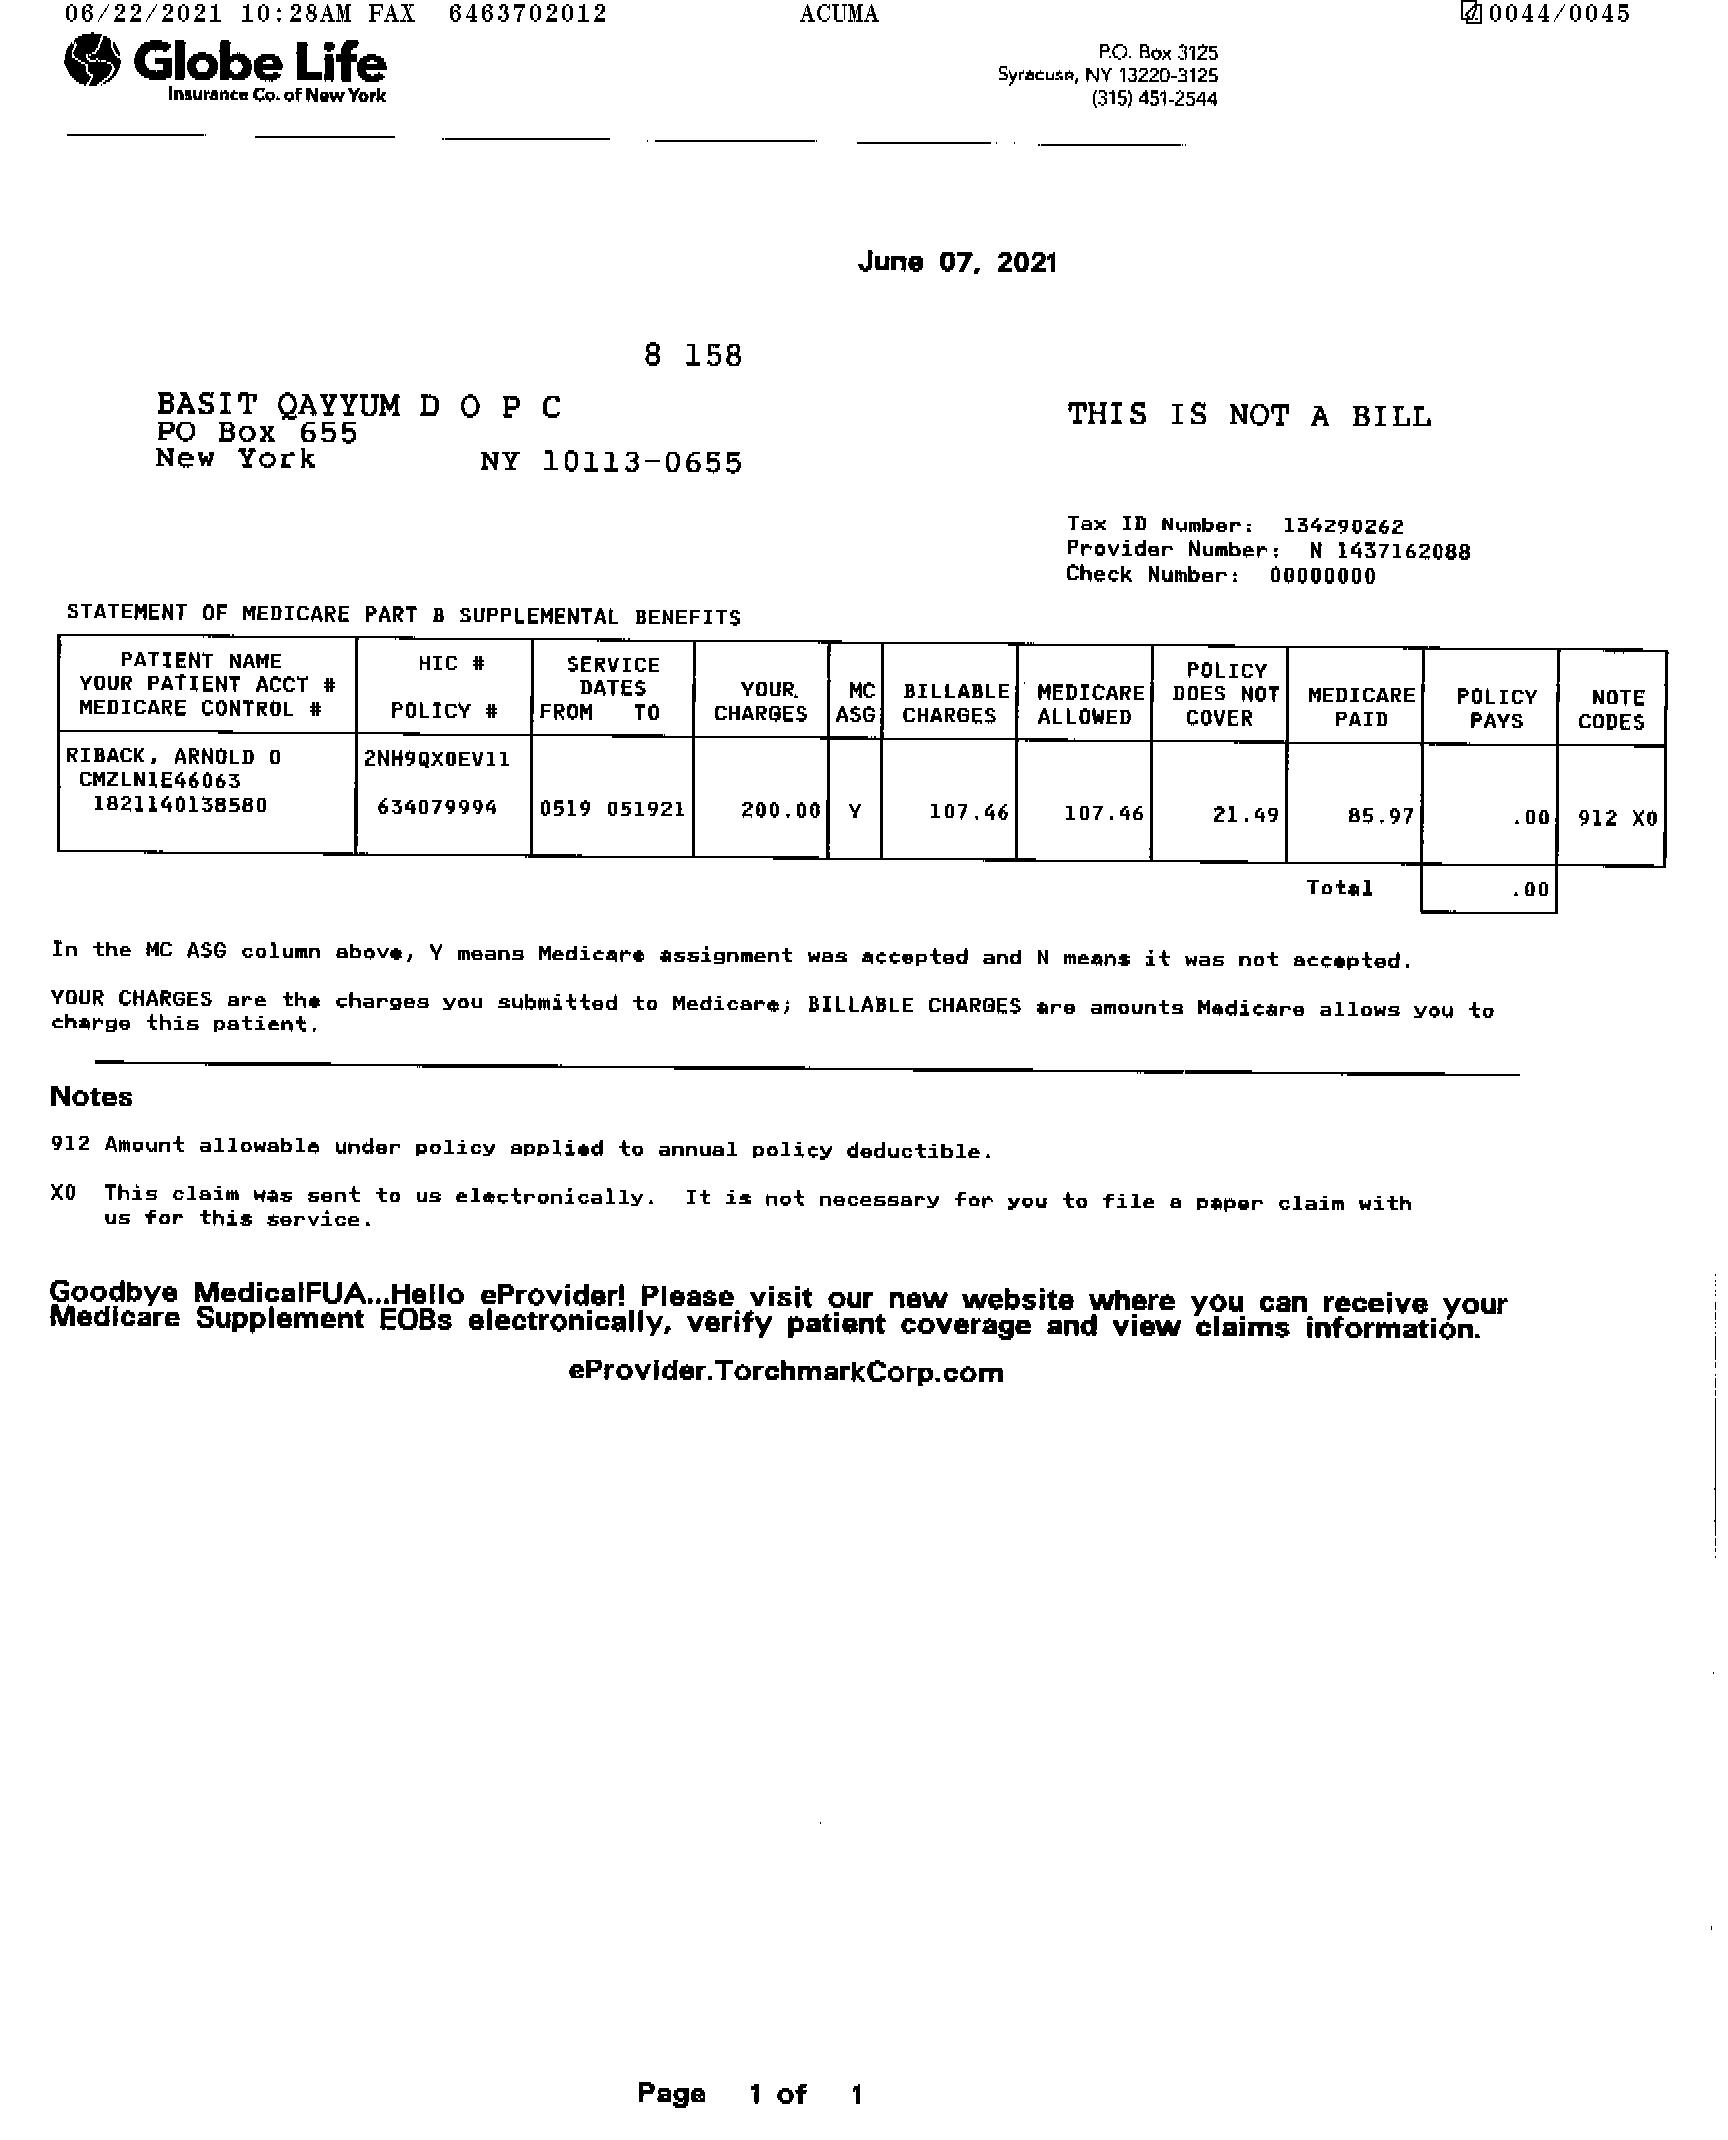table: (46, 619, 1680, 866)
